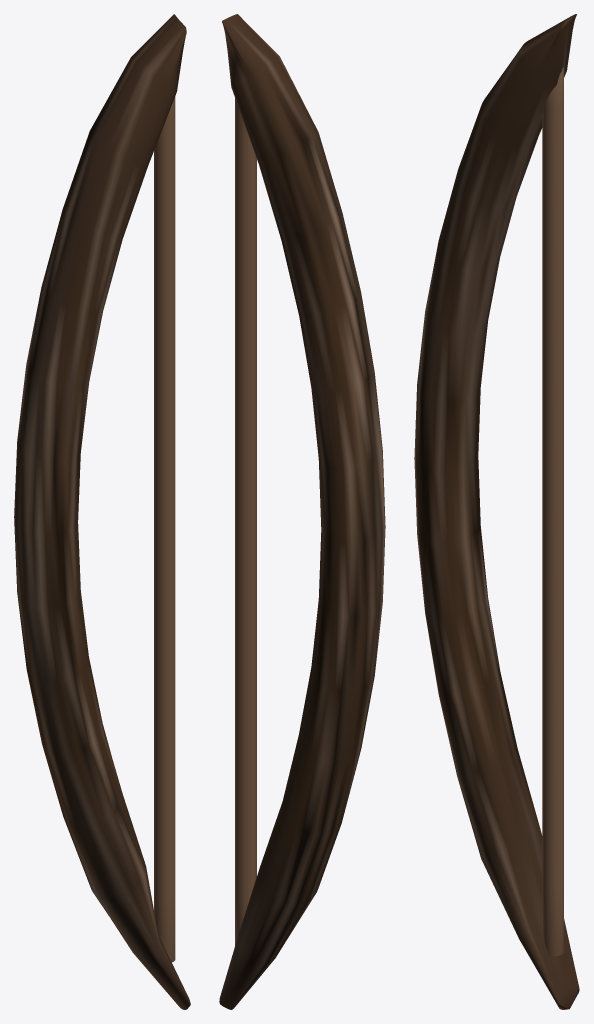
File: Bow.fbx
3 views of the same model, side by side, from view 1: azimuth 30°, elevation 25°; view 2: azimuth 150°, elevation 25°; view 3: azimuth 330°, elevation 25° (orthographic).
Visible parts, largest first — view 1: PM3D_Cylinder3D1, PM3D_Cylinder3D1_1; view 2: PM3D_Cylinder3D1, PM3D_Cylinder3D1_1; view 3: PM3D_Cylinder3D1, PM3D_Cylinder3D1_1.
Boxes of the visible parts, x1=… form: PM3D_Cylinder3D1: x1=14, y1=14, x2=190, y2=1009; PM3D_Cylinder3D1_1: x1=154, y1=97, x2=175, y2=962; PM3D_Cylinder3D1: x1=219, y1=14, x2=385, y2=1009; PM3D_Cylinder3D1_1: x1=235, y1=98, x2=256, y2=945; PM3D_Cylinder3D1: x1=414, y1=14, x2=579, y2=1009; PM3D_Cylinder3D1_1: x1=542, y1=67, x2=563, y2=956.
Bounding box in the file's own units: 0.5444 × 0.2387 × 3.24.
